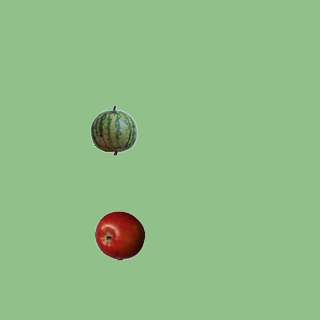Apple Braeburn: (94, 210, 144, 260)
Watermelon: (88, 105, 138, 155)
